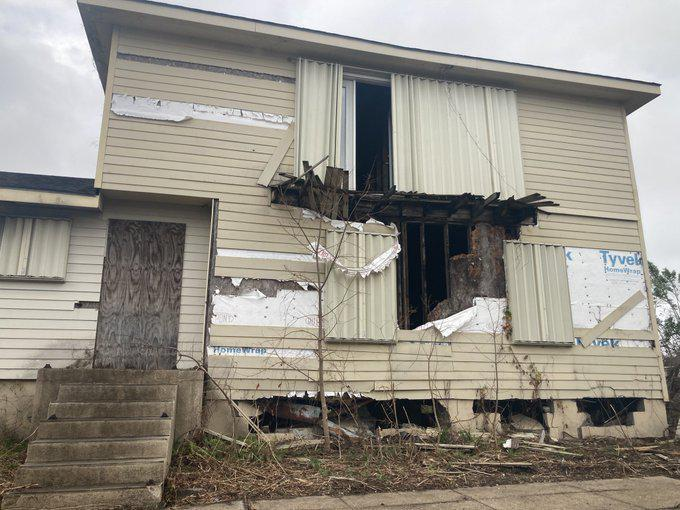major: (0, 0, 680, 467)
